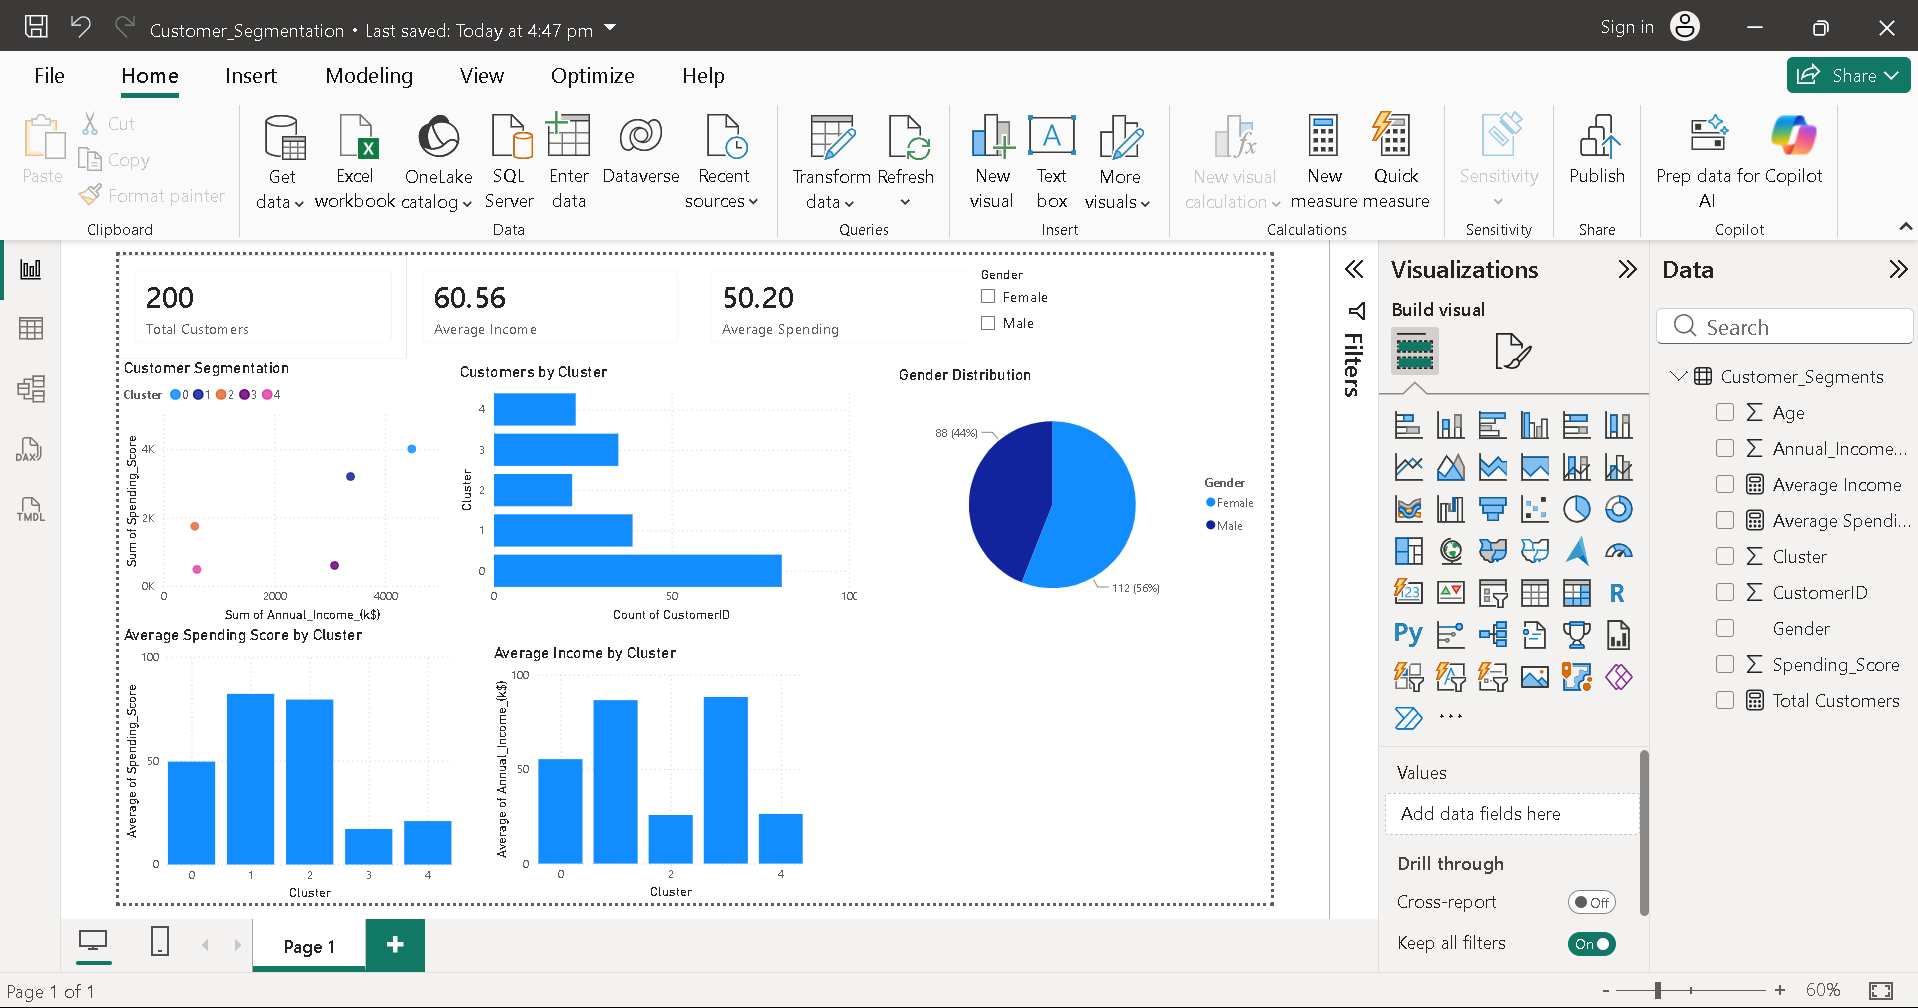

The dashboard page shown, as its layout file describes it:
{"tool":"powerbi","page":{"name":"Page 1","canvas":[1280,720],"ordinal":0},"visuals":[{"type":"cardVisual","fields":{"Data":["Customer_Segments.Total Customers"]},"box":[0,0,320.6,115],"z":0},{"type":"cardVisual","fields":{"Data":["Customer_Segments.Average Income"]},"box":[320.6,0,319,115],"z":1},{"type":"cardVisual","fields":{"Data":["Customer_Segments.Average Spending"]},"box":[639.6,0,372.4,115],"z":2},{"type":"scatterChart","title":"Customer Segmentation","fields":{"X":["Sum(Customer_Segments.Annual_Income_(k$))"],"Y":["Sum(Customer_Segments.Spending_Score)"],"Series":["Customer_Segments.Cluster"]},"box":[0,115,374,296.3],"z":3},{"type":"pieChart","title":"Gender Distribution","fields":{"Category":["Customer_Segments.Gender"],"Y":["CountNonNull(Customer_Segments.CustomerID)"]},"box":[861.4,123.1,416.1,288.2],"z":6},{"type":"clusteredBarChart","title":"Customers by Cluster","fields":{"Category":["Customer_Segments.Cluster"],"Y":["CountNonNull(Customer_Segments.CustomerID)"]},"box":[374,119.8,451.8,291.5],"z":7},{"type":"clusteredColumnChart","title":"Average Income by Cluster","fields":{"Category":["Customer_Segments.Cluster"],"Y":["Avg(Customer_Segments.Annual_Income_(k$))"]},"box":[411.3,432.3,353,288.2],"z":8},{"type":"clusteredColumnChart","title":"Average Spending Score by Cluster","fields":{"Category":["Customer_Segments.Cluster"],"Y":["Avg(Customer_Segments.Spending_Score)"]},"box":[0,411.3,374,309.3],"z":9},{"type":"slicer","fields":{"Values":["Customer_Segments.Gender"]},"box":[945.6,8.1,331.9,106.9],"z":10}]}

Visuals, with their boxes on the page's 1280x720 design canvas (x1, y1, x2, y2). These are canvas units, not pixel positions in the 1918x1008 screenshot, which may show the page scaled, cropped or inside an application window:
cardVisual - Customer_Segments.Total Customers: x1=0, y1=0, x2=321, y2=115
cardVisual - Customer_Segments.Average Income: x1=321, y1=0, x2=640, y2=115
cardVisual - Customer_Segments.Average Spending: x1=640, y1=0, x2=1012, y2=115
"Customer Segmentation" scatterChart: x1=0, y1=115, x2=374, y2=411
"Gender Distribution" pieChart: x1=861, y1=123, x2=1278, y2=411
"Customers by Cluster" clusteredBarChart: x1=374, y1=120, x2=826, y2=411
"Average Income by Cluster" clusteredColumnChart: x1=411, y1=432, x2=764, y2=720
"Average Spending Score by Cluster" clusteredColumnChart: x1=0, y1=411, x2=374, y2=721
slicer - Customer_Segments.Gender: x1=946, y1=8, x2=1278, y2=115
